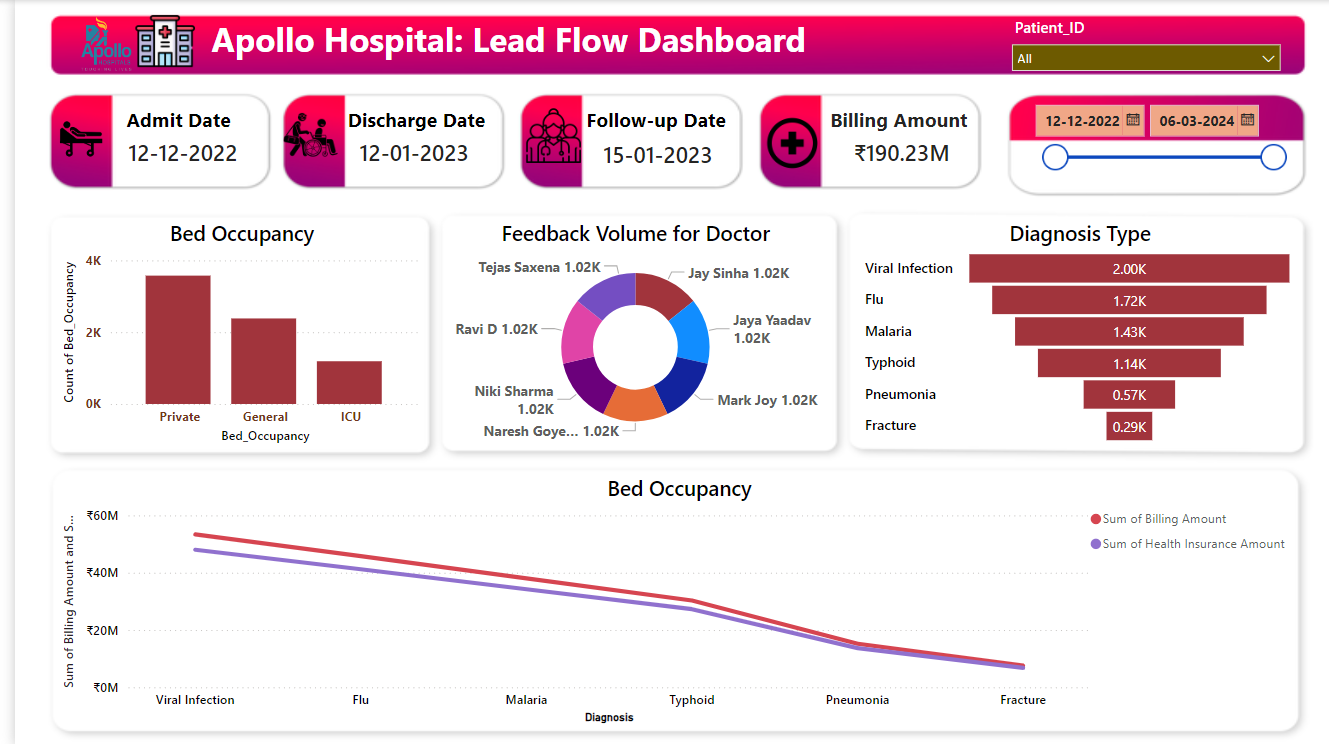

This screenshot's page, from the dashboard's own definition file:
{"tool":"powerbi","page":{"name":"Page 1","canvas":[1280,720],"ordinal":0},"visuals":[{"type":"slicer","fields":{"Values":["Sheet1.Patient_ID"]},"box":[951.9,10.9,279.9,62.7],"z":0},{"type":"card","fields":{"Values":["Min(Sheet1.Admit_Date)"]},"box":[73.6,119.4,177.3,59.1],"z":1000},{"type":"textbox","box":[102.5,97.7,136.3,42.2],"z":2000},{"type":"card","fields":{"Values":["Min(Sheet1.Discharge_Date)"]},"box":[296.8,119.4,177.3,59.1],"z":3000},{"type":"textbox","box":[316.1,97.7,179.8,44.6],"z":4000},{"type":"card","fields":{"Values":["Min(Sheet1.Followup Date)"]},"box":[532,109.8,177.3,82],"z":5000},{"type":"textbox","box":[546.5,97.7,184.6,43.4],"z":6000},{"type":"card","fields":{"Values":["Sum(Sheet1.Billing Amount)"]},"box":[767.3,119.4,177.3,59.1],"z":7000},{"type":"textbox","box":[781.8,97.7,184.6,62.7],"z":8000},{"type":"slicer","fields":{"Values":["Sheet1.Admit_Date"]},"box":[977.2,84.5,254.6,94.1],"z":9000},{"type":"columnChart","title":"Bed Occupancy","fields":{"Category":["Sheet1.Bed_Occupancy"],"Y":["CountNonNull(Sheet1.Bed_Occupancy)"]},"box":[42.2,211.1,353.5,222],"z":10000},{"type":"donutChart","title":"Feedback Volume for Doctor","fields":{"Category":["Sheet1.Doctor"],"Y":["CountNonNull(Sheet1.Doctor)"]},"box":[406.6,211.1,384.9,222],"z":11000},{"type":"funnel","title":"Diagnosis Type","fields":{"Y":["CountNonNull(Sheet1.Diagnosis)"],"Category":["Sheet1.Diagnosis"]},"box":[815.6,211.1,424.7,222],"z":12000},{"type":"lineChart","title":"Bed Occupancy","fields":{"Y":["Sum(Sheet1.Billing Amount)","Sum(Sheet1.Health Insurance Amount)"],"Category":["Sheet1.Diagnosis"]},"box":[42.2,457.2,1198,246.1],"z":13000},{"type":"textbox","box":[184.6,10.9,606.8,62.7],"z":14000},{"type":"image","box":[14.5,0,148.4,84.5],"z":14001},{"type":"image","box":[38.6,97.7,50.7,72.4],"z":14002},{"type":"image","box":[254.6,83.2,61.5,92.9],"z":14003},{"type":"image","box":[488.6,91.7,62.7,78.4],"z":14004},{"type":"image","box":[719,91.7,62.7,92.9],"z":14005},{"type":"image","box":[102.5,6,84.5,67.6],"z":14006}]}

Visuals, with their boxes in screenshot pixels (x1, y1, x2, y2), scaled from the page's 1280x720 canvas onto the 1329x744 screenshot:
slicer - Sheet1.Patient_ID: left=988, top=11, right=1279, bottom=76
card - Min(Sheet1.Admit_Date): left=76, top=123, right=261, bottom=184
textbox: left=106, top=101, right=248, bottom=145
card - Min(Sheet1.Discharge_Date): left=308, top=123, right=492, bottom=184
textbox: left=328, top=101, right=515, bottom=147
card - Min(Sheet1.Followup Date): left=552, top=113, right=736, bottom=198
textbox: left=567, top=101, right=759, bottom=146
card - Sum(Sheet1.Billing Amount): left=797, top=123, right=981, bottom=184
textbox: left=812, top=101, right=1003, bottom=166
slicer - Sheet1.Admit_Date: left=1015, top=87, right=1279, bottom=185
"Bed Occupancy" columnChart: left=44, top=218, right=411, bottom=448
"Feedback Volume for Doctor" donutChart: left=422, top=218, right=822, bottom=448
"Diagnosis Type" funnel: left=847, top=218, right=1288, bottom=448
"Bed Occupancy" lineChart: left=44, top=472, right=1288, bottom=727
textbox: left=192, top=11, right=822, bottom=76
image: left=15, top=0, right=169, bottom=87
image: left=40, top=101, right=93, bottom=176
image: left=264, top=86, right=328, bottom=182
image: left=507, top=95, right=572, bottom=176
image: left=747, top=95, right=812, bottom=191
image: left=106, top=6, right=194, bottom=76
